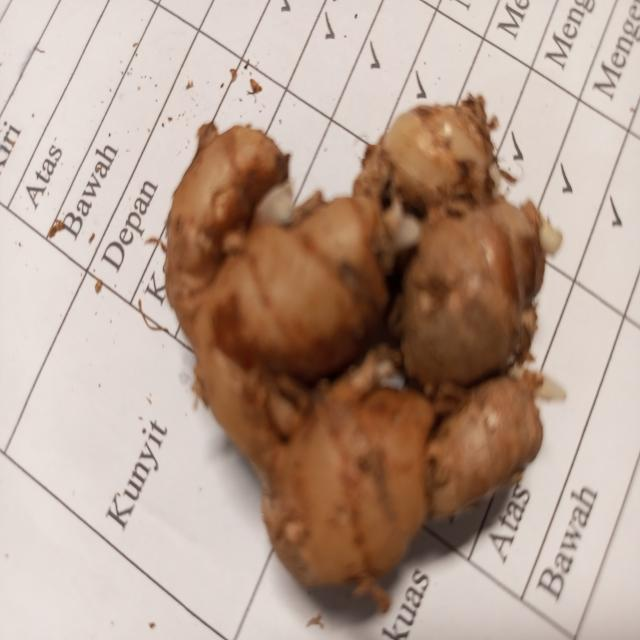ginger: (176, 122, 534, 567)
